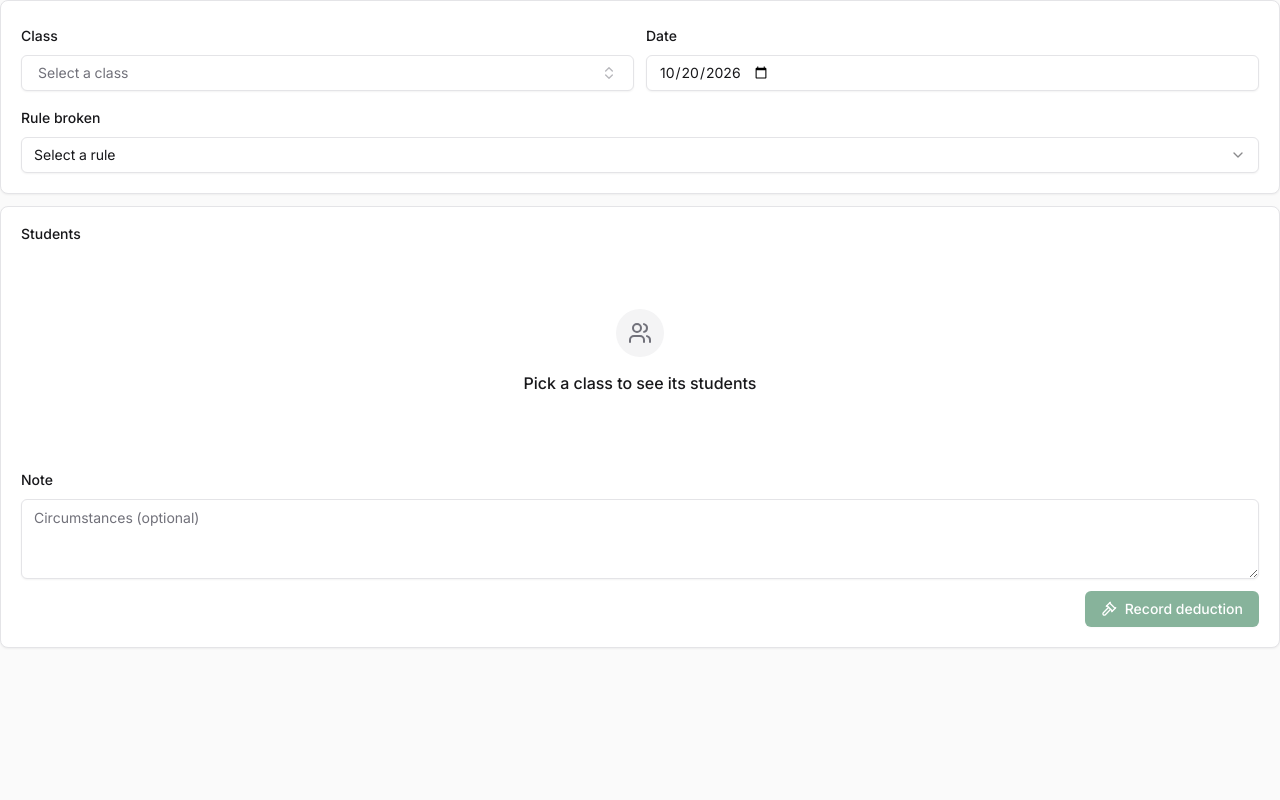
Test case: conduct deductions — taking points › warns that a hand-set conduct mark is what the report card still prints
Click the dropdown labelled "Select a class".
click(83, 72)  # box [21, 55, 634, 91]
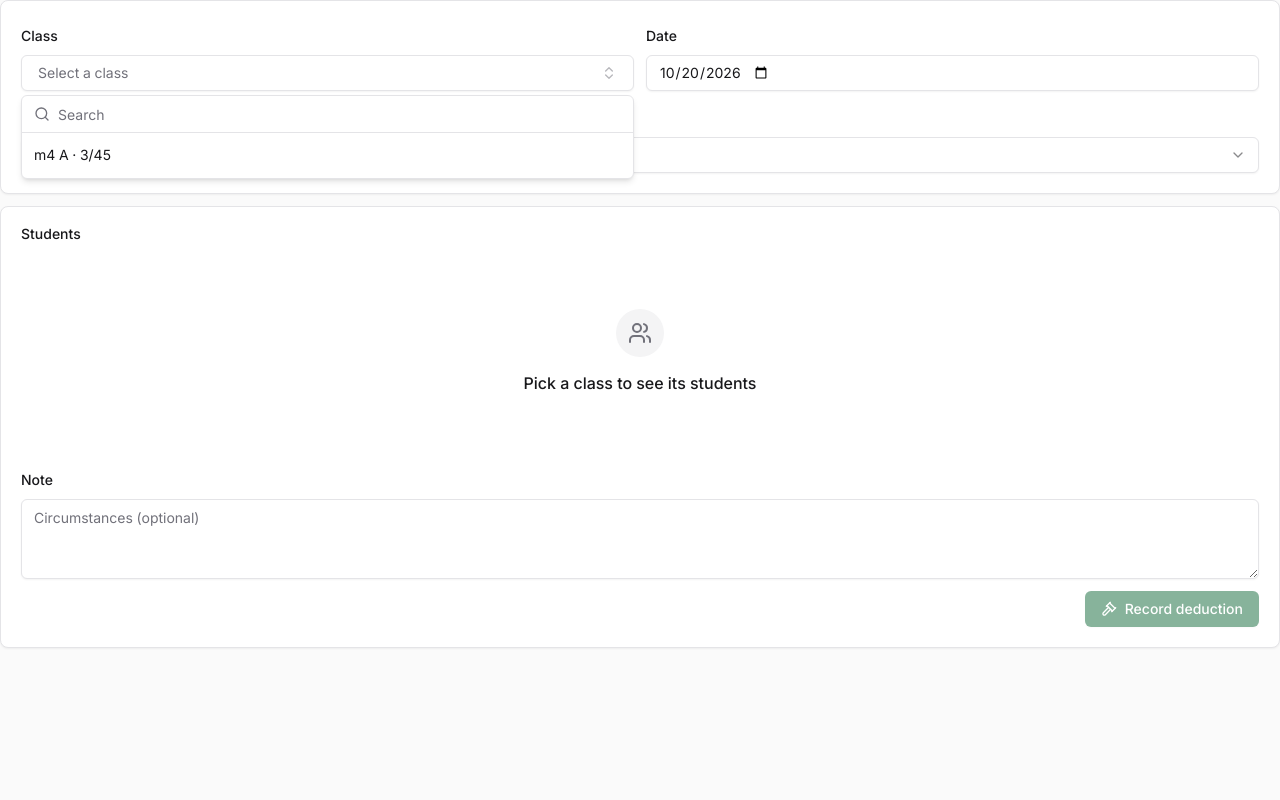
Click the button "m4 A · 3/45".
click(72, 154)  # box [26, 137, 629, 174]
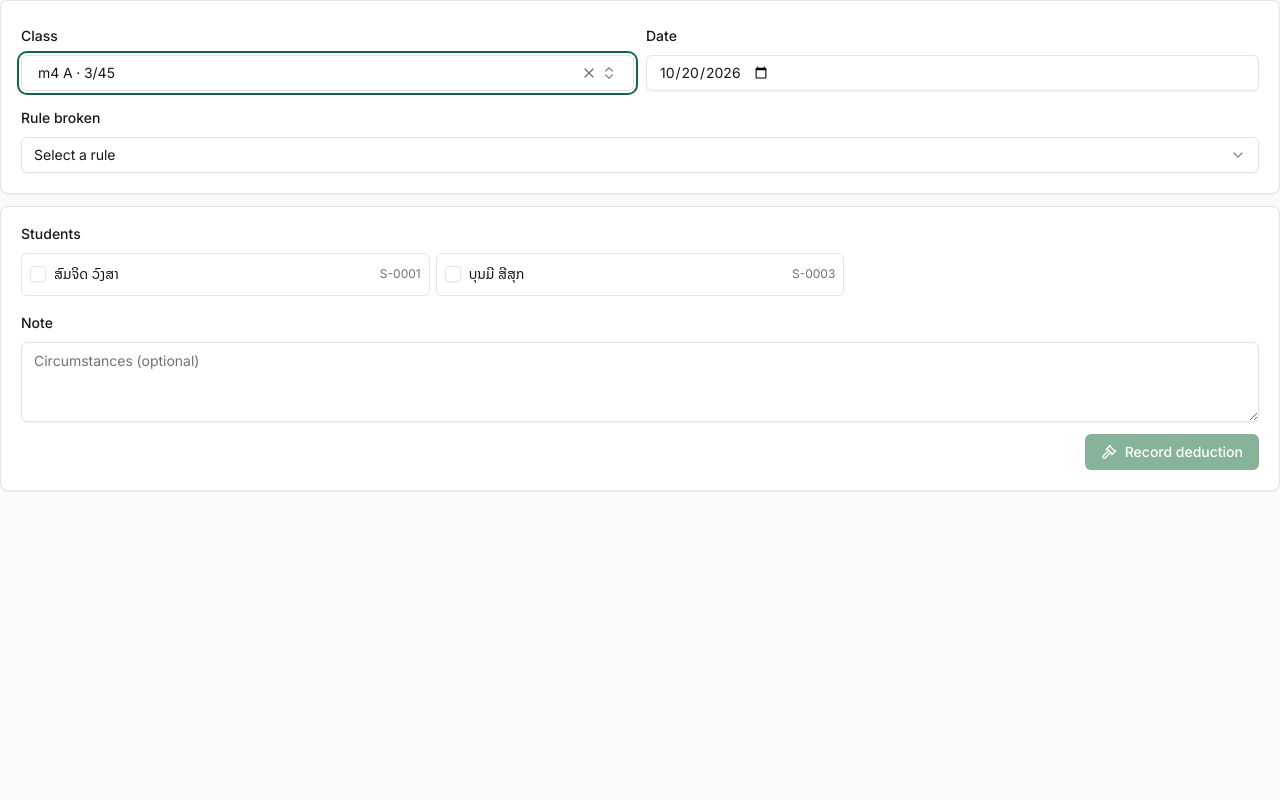
Click the dropdown named "rule broken".
click(75, 154)  # box [21, 137, 1259, 173]
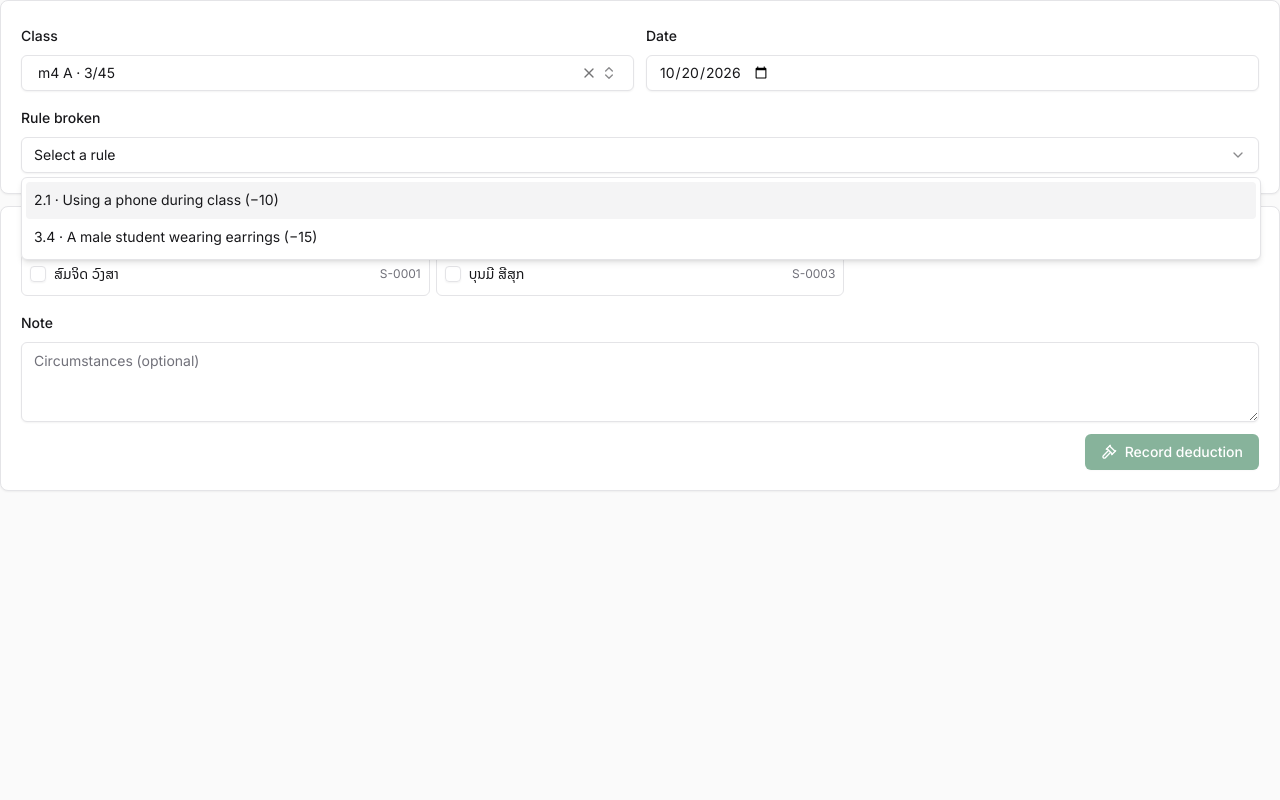
Click the option "2.1 · Using a phone during class (−10)".
click(152, 200)  # box [26, 182, 1256, 218]
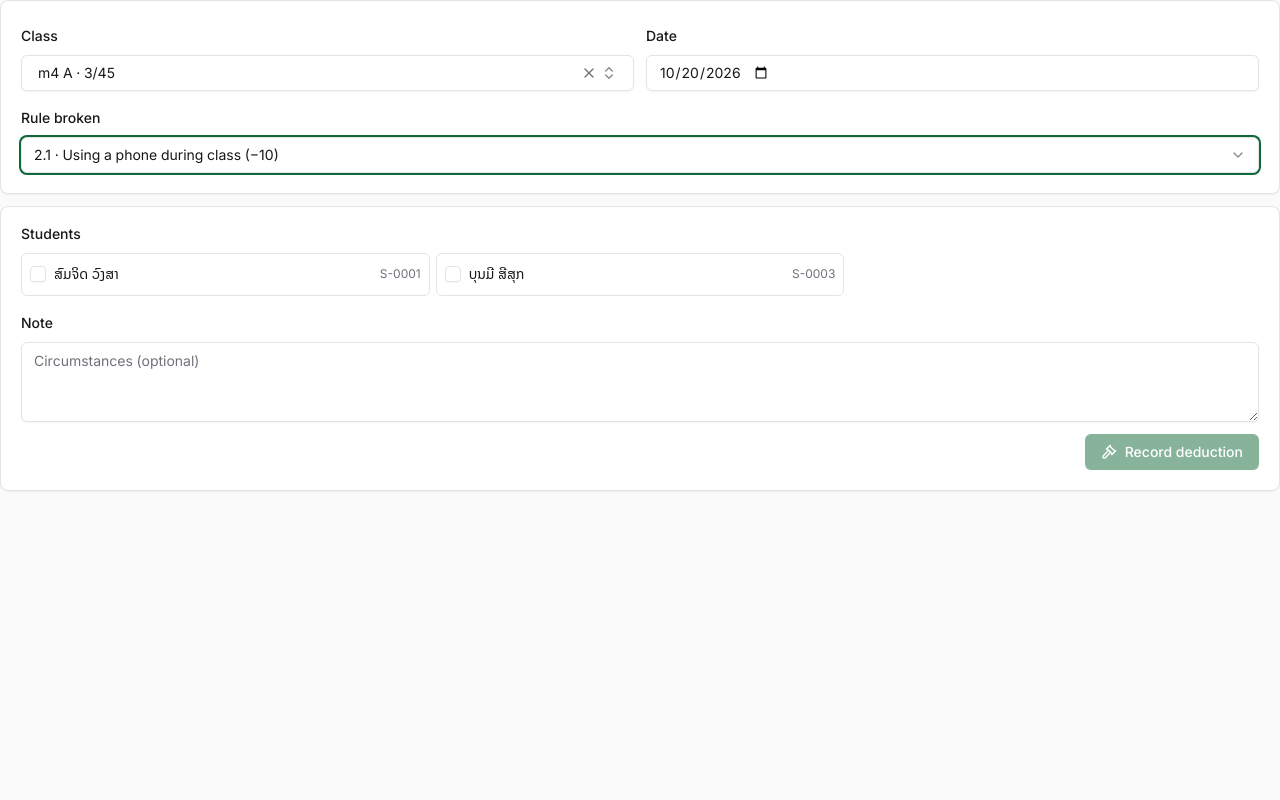
Click the checkbox named "ສົມຈິດ ວົງສາ" next to "ສົມຈິດ ວົງສາ".
click(38, 274)  # box [30, 266, 46, 282]
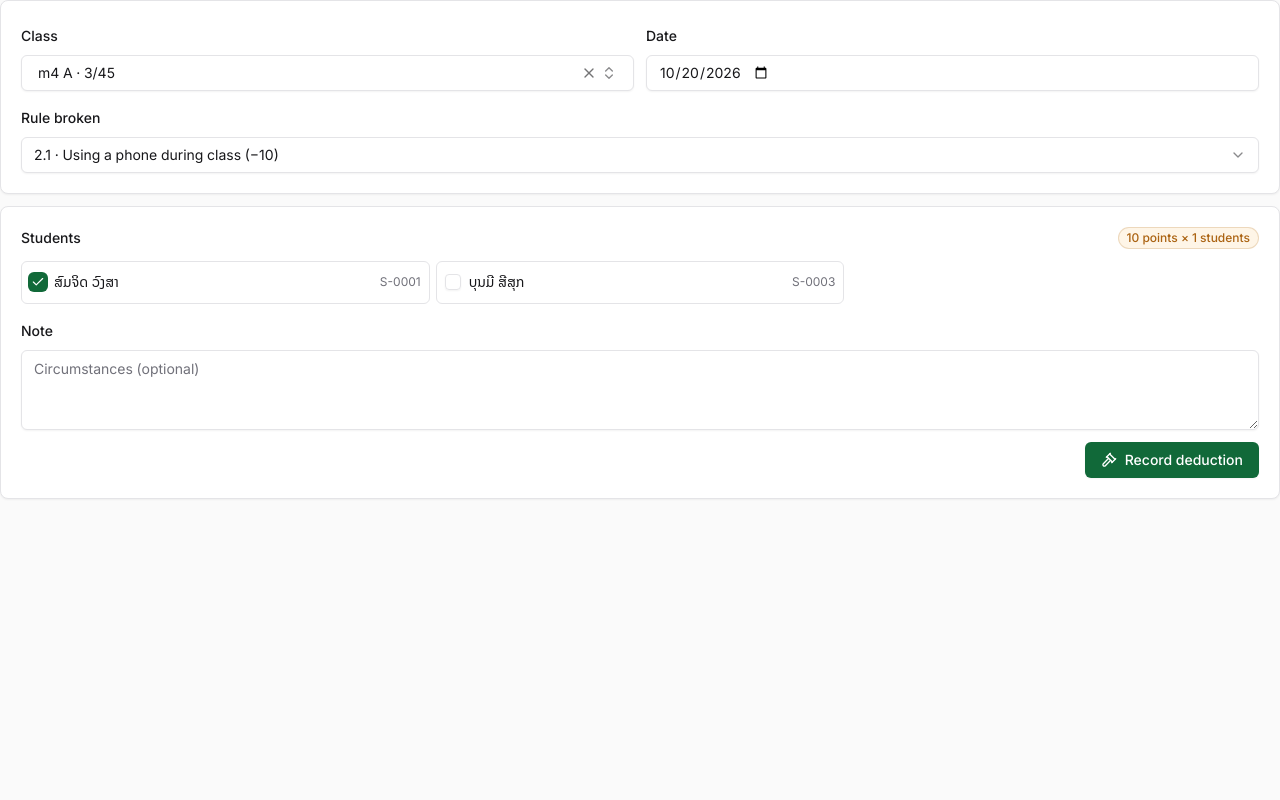
Click the button "Record deduction".
click(1172, 460)  # box [1085, 442, 1259, 478]
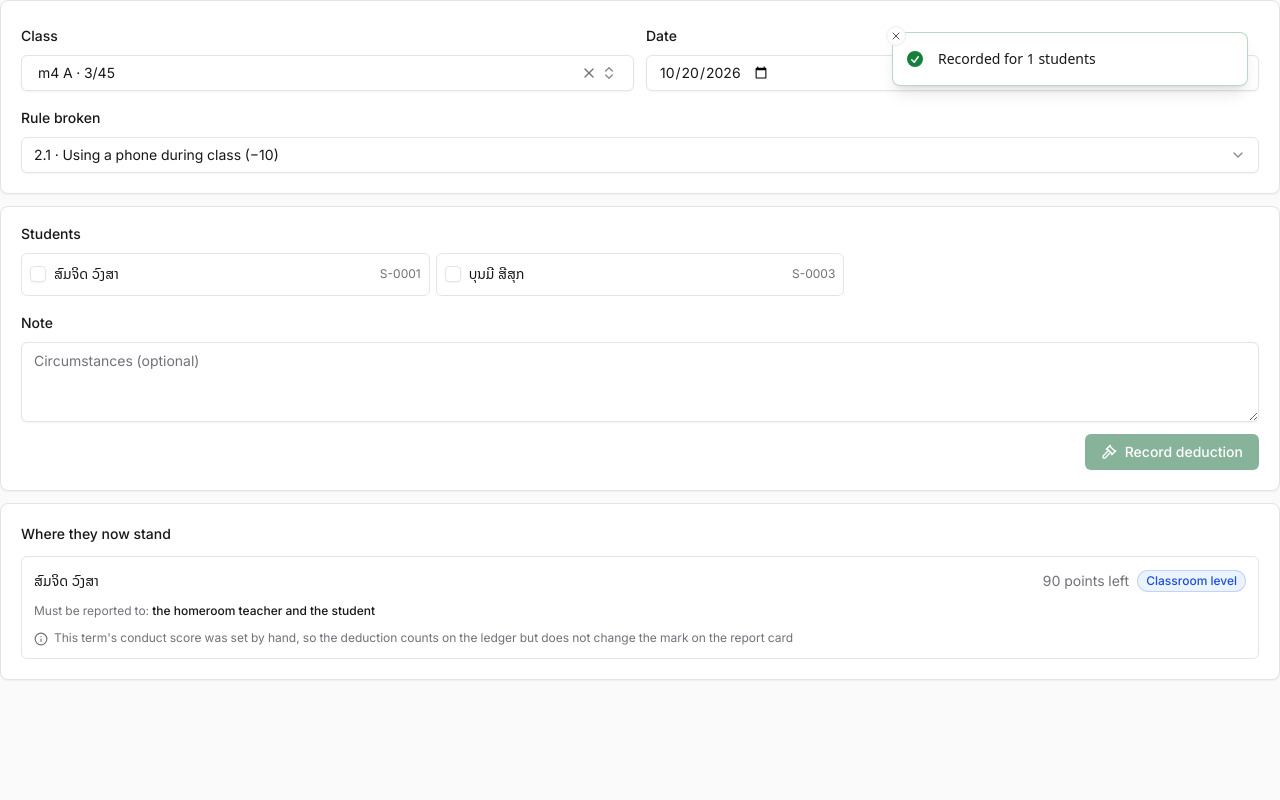
Expected: the text "set by hand" is shown, [54, 628, 793, 648]
